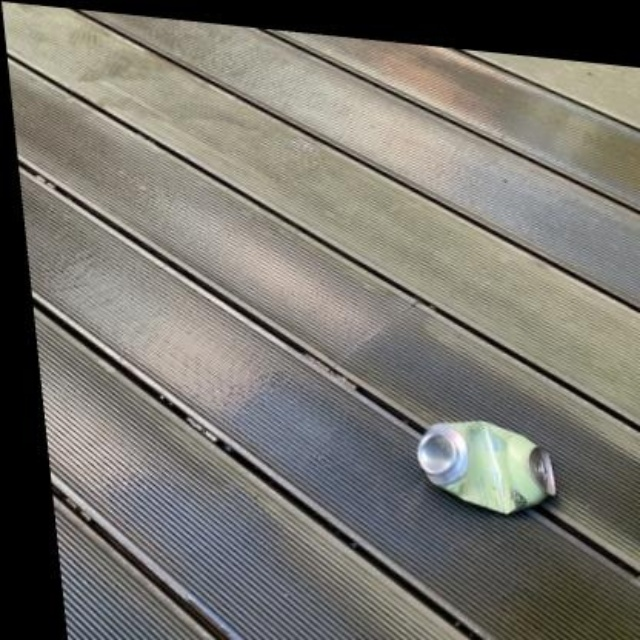trash: (417, 422, 554, 512)
